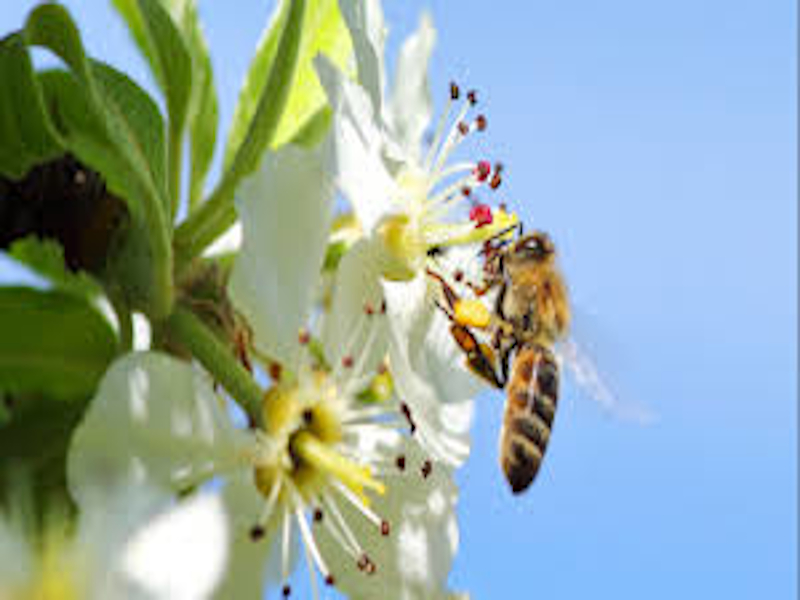abeja: (410, 203, 611, 505)
